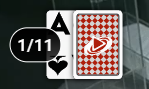a: (45, 9, 74, 39)
